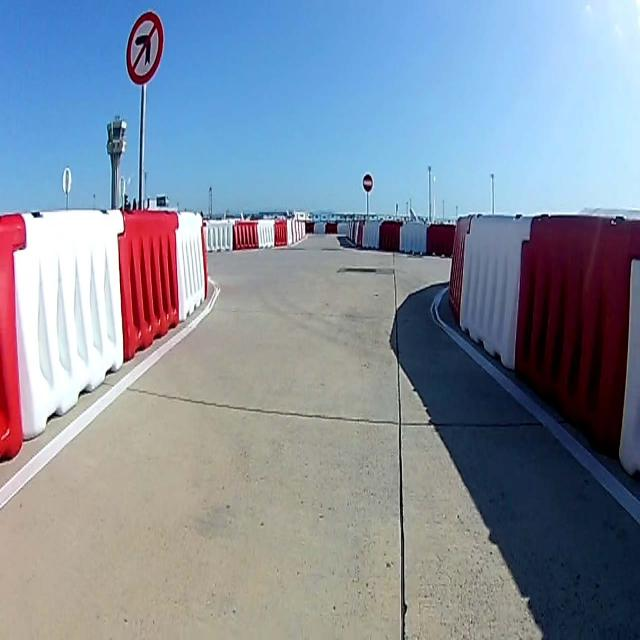girisyok: (360, 172, 374, 191)
soladonulmez: (126, 13, 162, 82)
